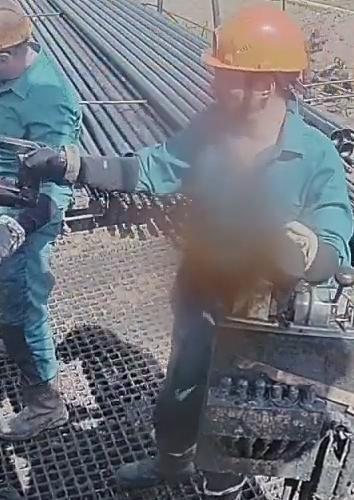gloves: (255, 219, 320, 286), (16, 144, 91, 188), (0, 213, 33, 262)
helmet: (201, 2, 308, 84), (0, 0, 32, 58)
vest: (173, 107, 353, 253), (0, 56, 81, 234)
